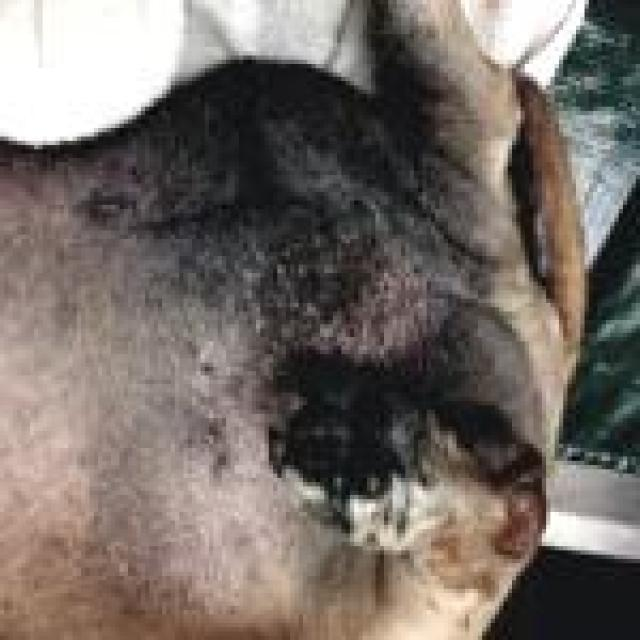fungal infection: (266, 237, 448, 342), (188, 334, 280, 480)
